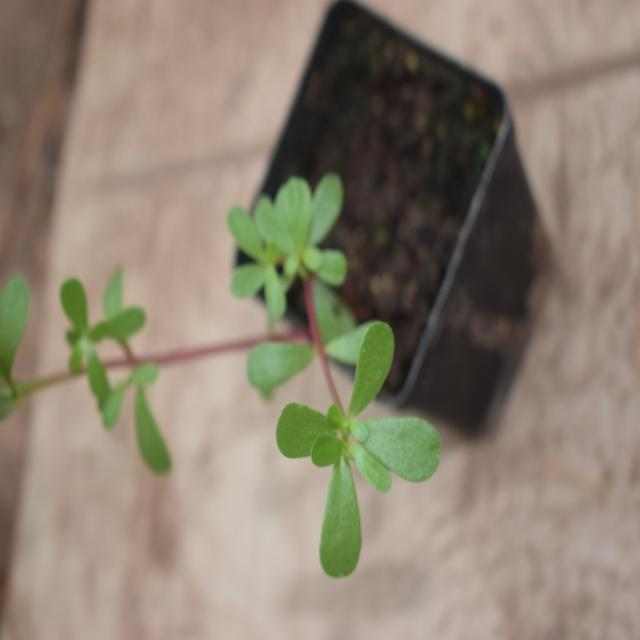purslane: (222, 184, 438, 589)
